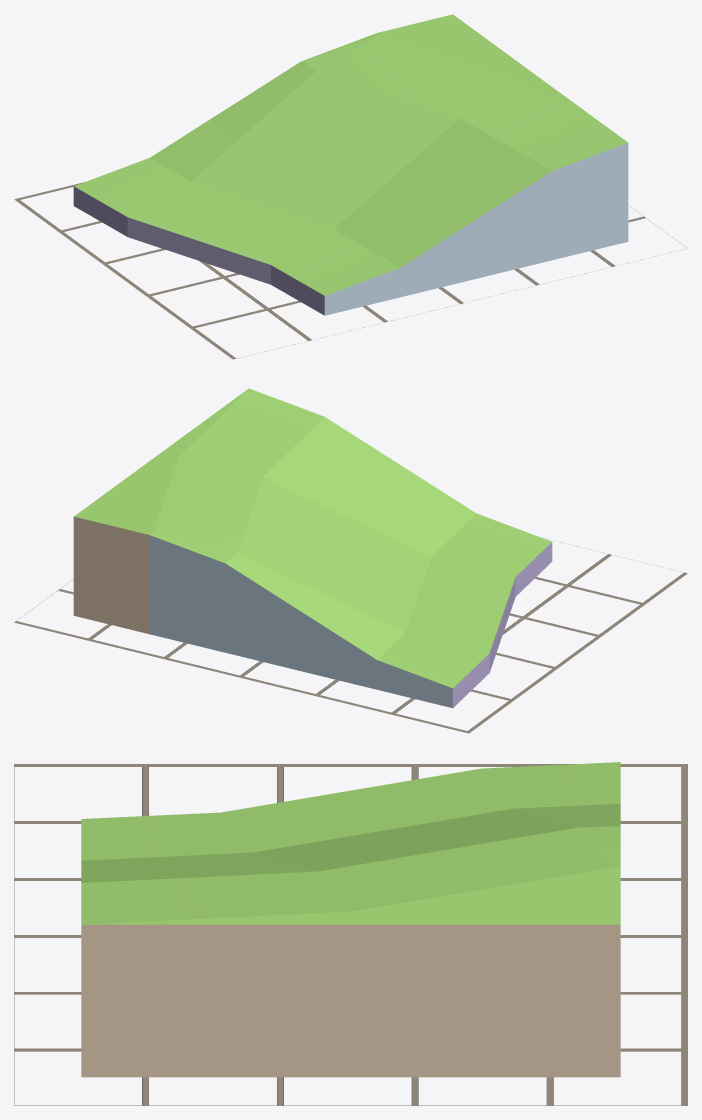
The model's file is Grass_Hill_Gentle_Esse_4x5.glb.
3 renders of one model, top to bottom at view 1: azimuth 30°, elevation 25°; view 2: azimuth 150°, elevation 25°; view 3: azimuth 270°, elevation 25°, orthographic. The views are drawn at different scales.
Parts seen in each view (by area): view 1: Grass_Hill_Gentle_Esse_4x5, Floor; view 2: Grass_Hill_Gentle_Esse_4x5, Floor; view 3: Grass_Hill_Gentle_Esse_4x5, Floor.
Boxes of the visible parts, <box> form: Grass_Hill_Gentle_Esse_4x5: <box>73,14,628,315</box>; Floor: <box>14,182,686,359</box>; Grass_Hill_Gentle_Esse_4x5: <box>73,388,552,708</box>; Floor: <box>14,538,687,733</box>; Grass_Hill_Gentle_Esse_4x5: <box>81,762,620,1077</box>; Floor: <box>14,764,687,1105</box>.
Size of the model in its own units: 600 by 125 by 500.
6 materials, 1 textured.
